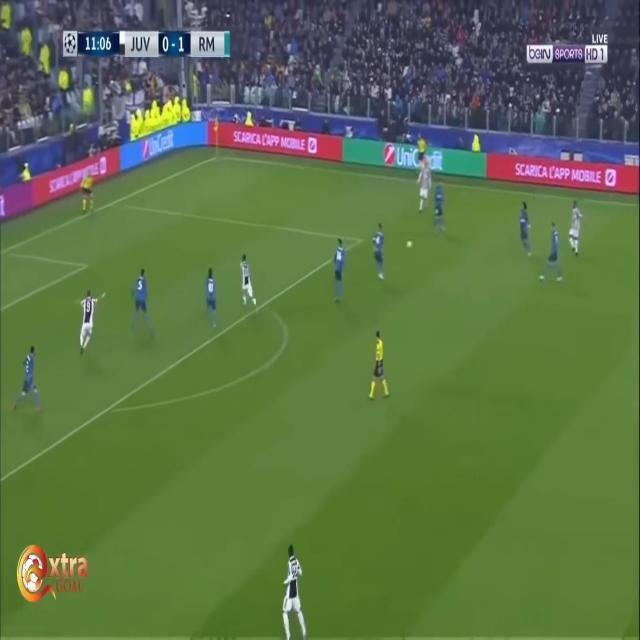ball: (403, 235, 417, 255)
player: (272, 538, 310, 640), (13, 337, 45, 423), (72, 287, 106, 354), (129, 258, 153, 340), (328, 233, 352, 308), (237, 247, 261, 317), (368, 221, 393, 286), (199, 264, 224, 326), (514, 200, 538, 264), (564, 197, 585, 264), (544, 218, 564, 284), (431, 177, 449, 242), (416, 160, 433, 220)
referee: (367, 326, 396, 414), (75, 168, 99, 217)
